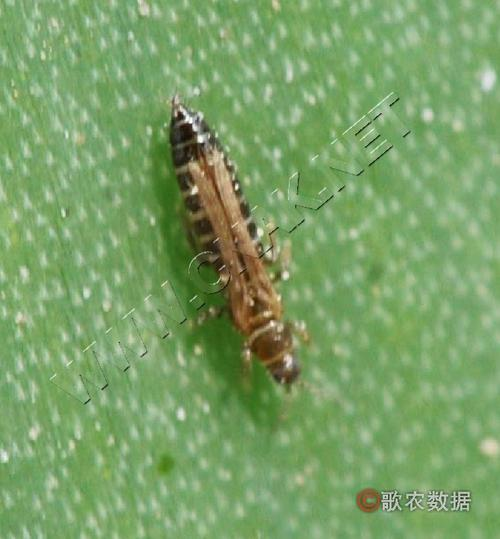Thripidae: (163, 91, 329, 432)
